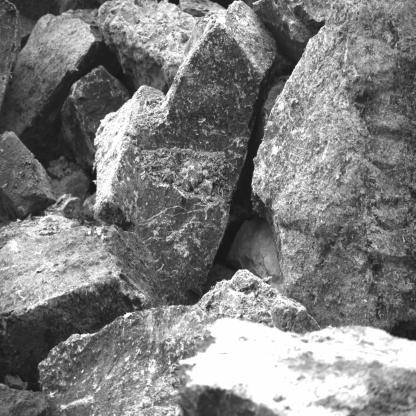stone: (250, 0, 416, 341), (93, 0, 277, 305), (38, 268, 317, 416), (0, 214, 165, 390), (172, 318, 416, 416), (0, 12, 96, 136), (100, 0, 194, 88), (57, 65, 131, 171), (0, 130, 57, 221)
